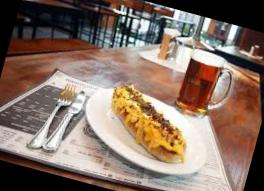Completos: (90, 76, 204, 171)
